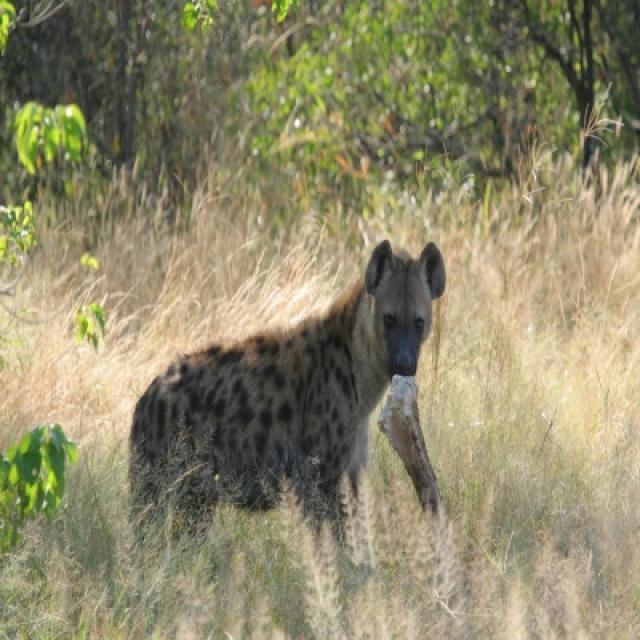hyena: (126, 242, 446, 600)
